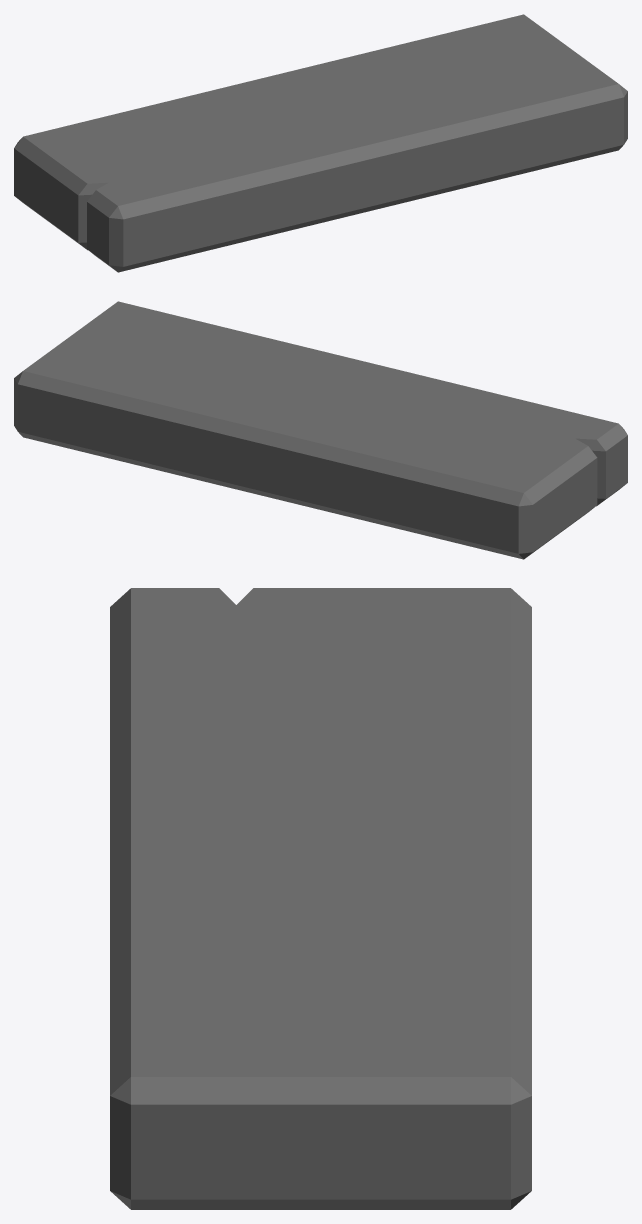
File: Tile_03.fbx
3 views of the same model, one above another, from view 1: azimuth 30°, elevation 25°; view 2: azimuth 150°, elevation 25°; view 3: azimuth 270°, elevation 25° (orthographic). The views are drawn at different scales.
Parts seen in each view (by area): view 1: Tile_03; view 2: Tile_03; view 3: Tile_03.
Boxes of the visible parts, x1=… form: Tile_03: x1=14, y1=14, x2=627, y2=272; Tile_03: x1=14, y1=301, x2=627, y2=559; Tile_03: x1=110, y1=588, x2=531, y2=1209.
Bounding box in the file's own units: 1.48 × 0.1816 × 0.5222.
